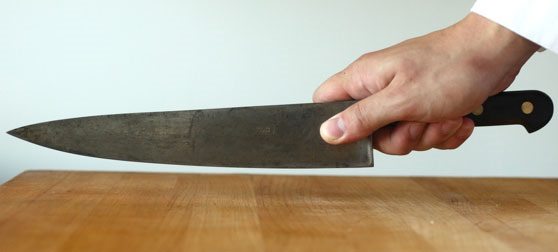knife: (1, 50, 427, 198)
